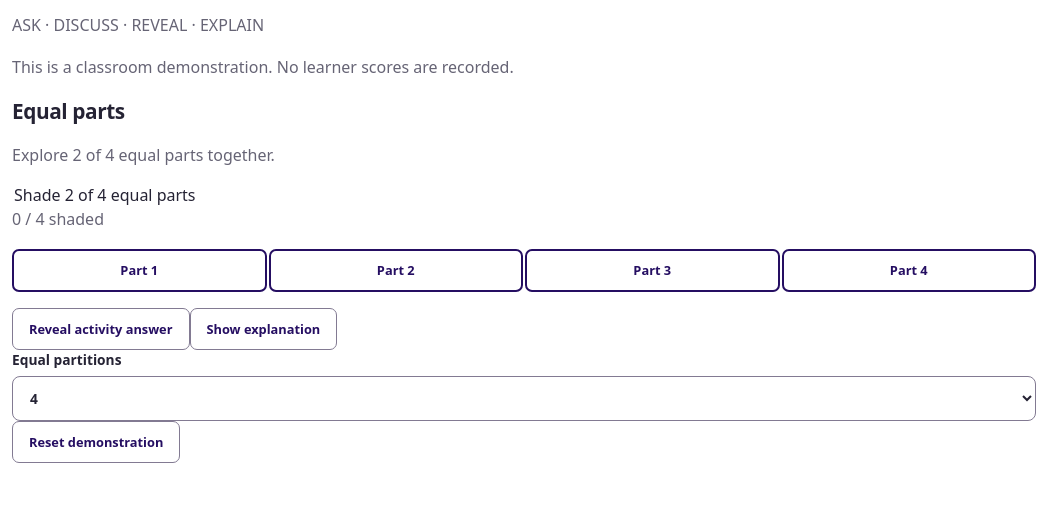
Test: whole-class activity › adjusts equal partitions for a demonstration without mutating the published definition
The width and height of the screenshot is (1048, 523).
Select "8" in the dropdown labelled "Equal partitions": [524, 399] box [12,376,1036,421]
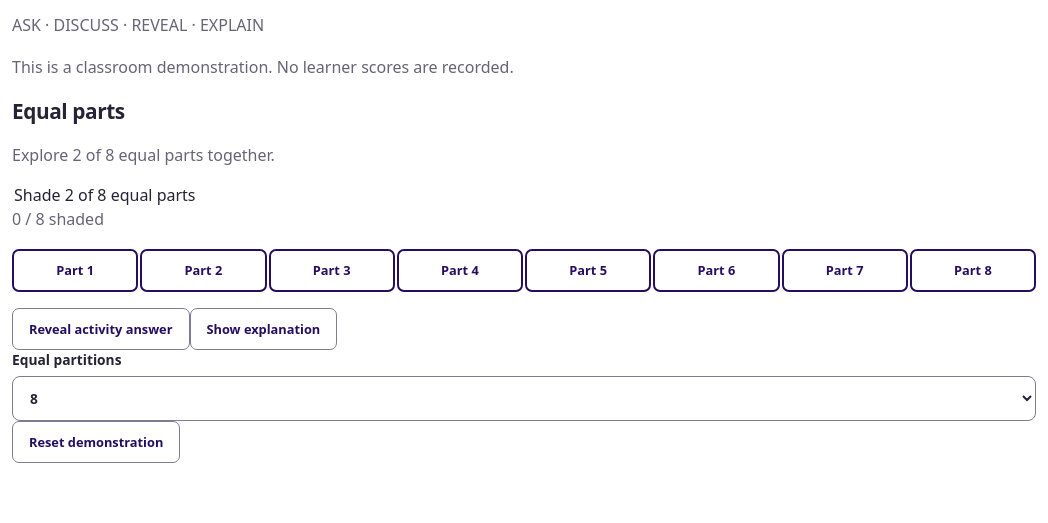
Expected: the button "Part 8" is shown, [910,249,1036,292]
Click the button "Reveal activity answer": [101, 329] box [12,308,190,350]
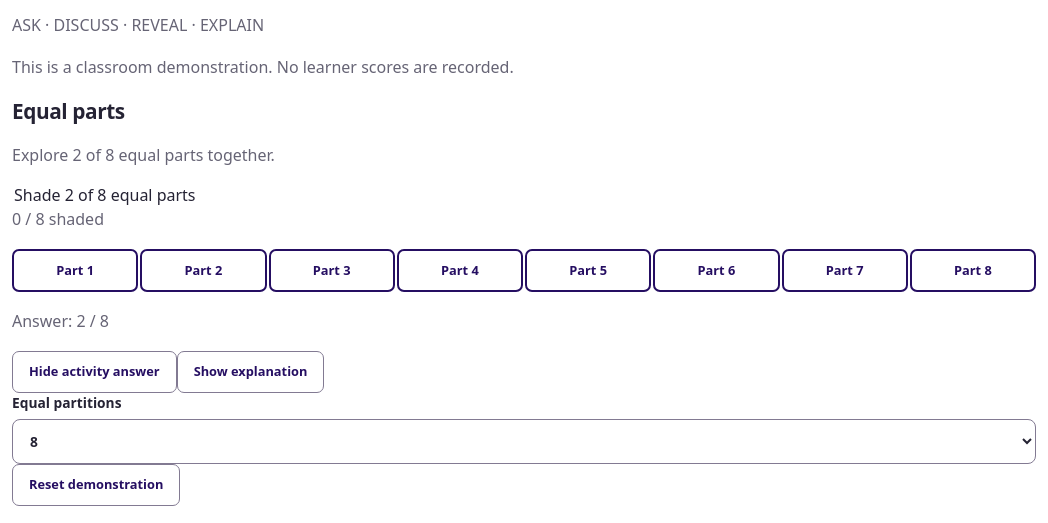
Expected: the text "Answer: 2 / 8" is shown, [12,310,109,332]
Click the button "Reset demonstration": [96, 485] box [12,464,180,506]
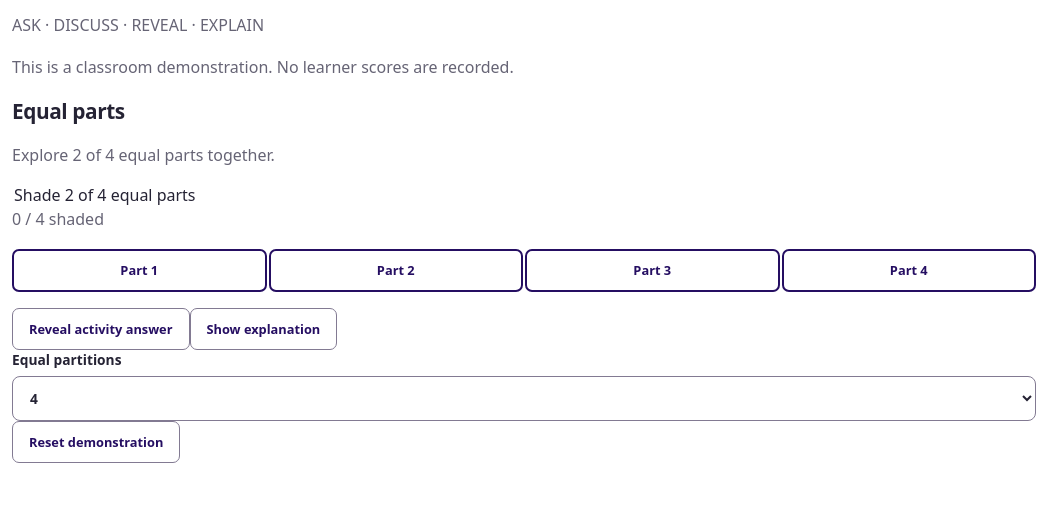
Expected: the button "Part 8" is gone
Expected: the text "Answer: 2 / 8" is gone
